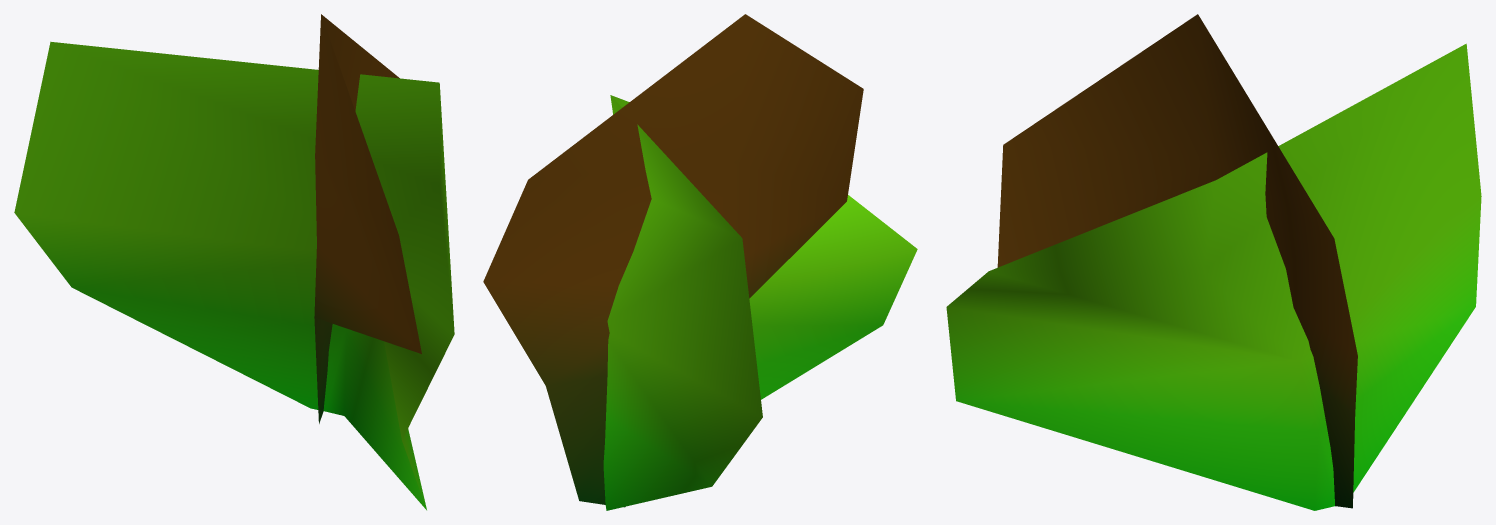
File: Var1Hi15.fbx
The picture shows the model from 3 angles, left to right: view 1: azimuth 30°, elevation 25°; view 2: azimuth 150°, elevation 25°; view 3: azimuth 270°, elevation 25°; orthographic projection.
Visible parts, largest first — view 1: bend1; view 2: bend1; view 3: bend1.
Boxes of the visible parts, x1,y1,x2,y2 form: bend1: (14, 14, 454, 510); bend1: (483, 14, 917, 510); bend1: (946, 14, 1481, 510).
Bounding box in the file's own units: 1.04 × 1.35 × 1.41.
